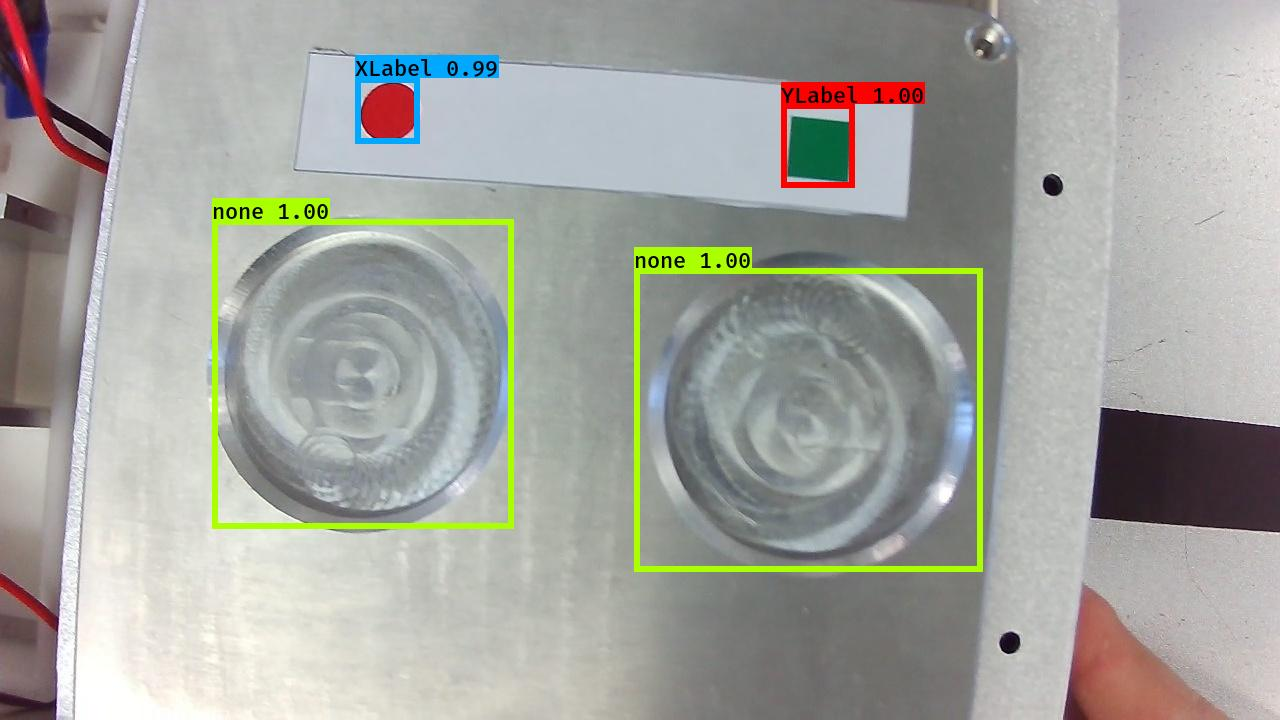XLabel: (357, 76, 423, 142)
YLabel: (784, 111, 857, 185)
none: (641, 246, 979, 582), (196, 208, 525, 541)
